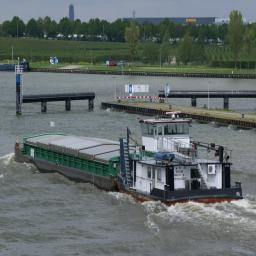tugboat: (117, 110, 246, 212)
